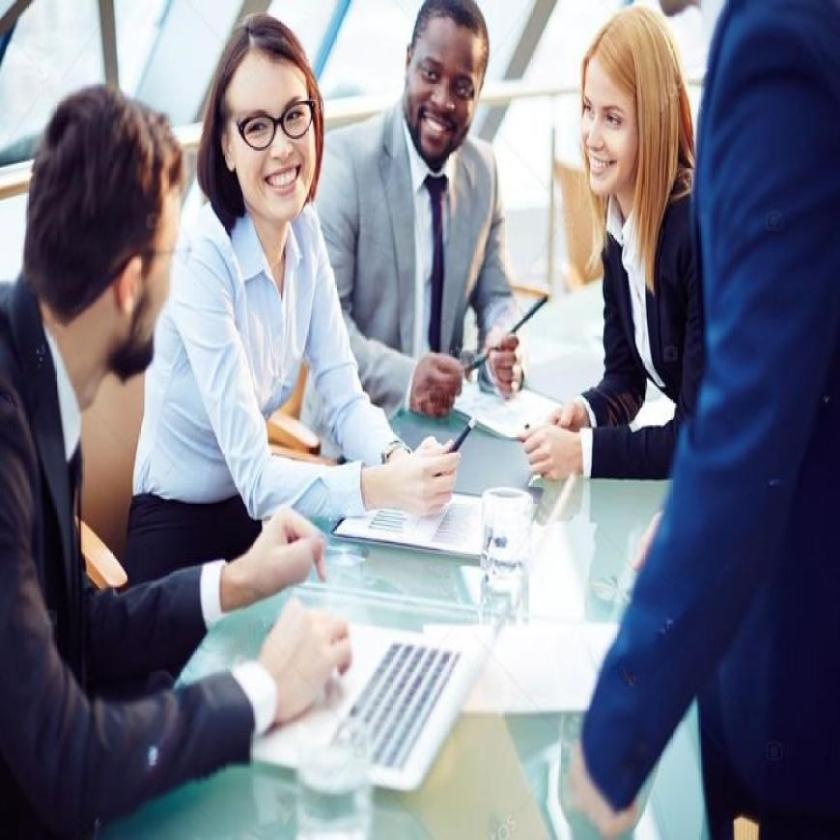Sin_casco: (26, 80, 189, 406), (208, 12, 330, 240), (574, 6, 686, 212), (397, 0, 493, 171)
